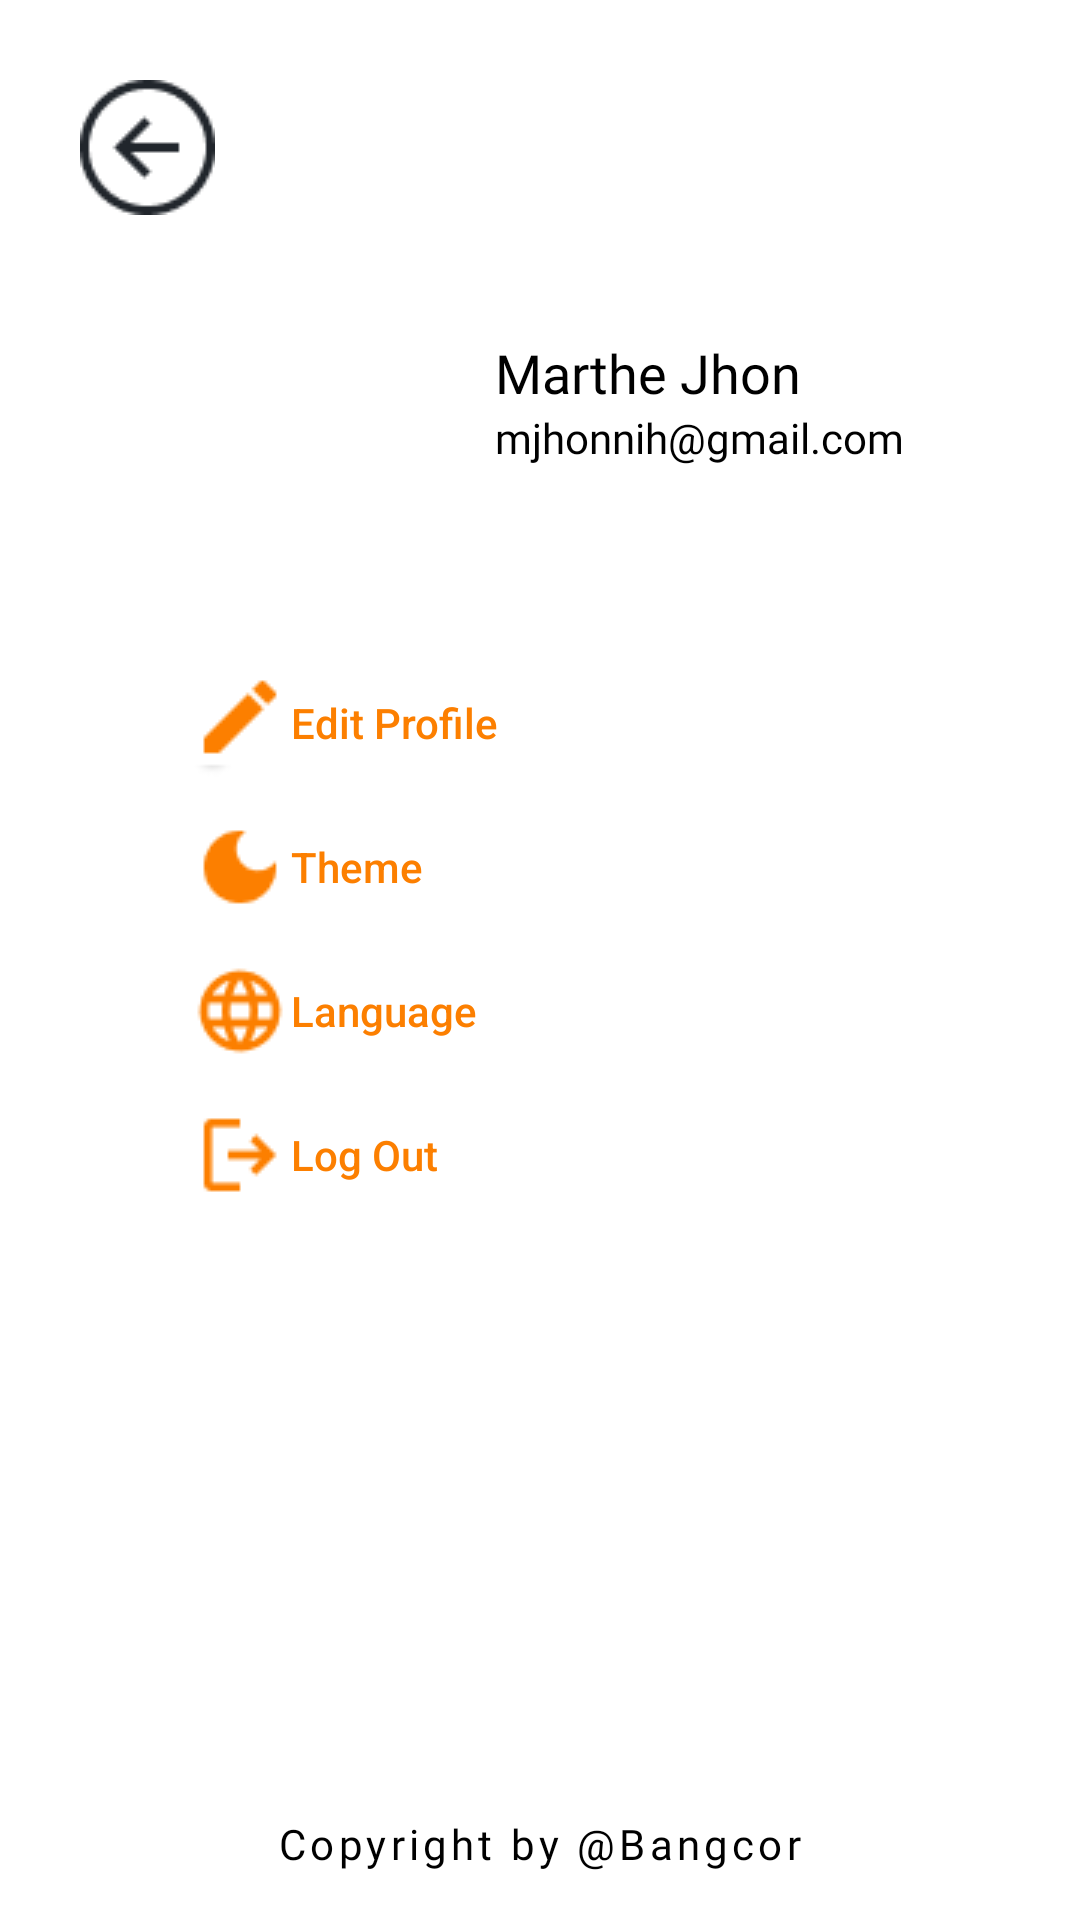

Locate icon controls on the screen. Image size 1080 × 1920, boxes as [x1,y1,x2,y2].
Back: [80,80,215,215]
